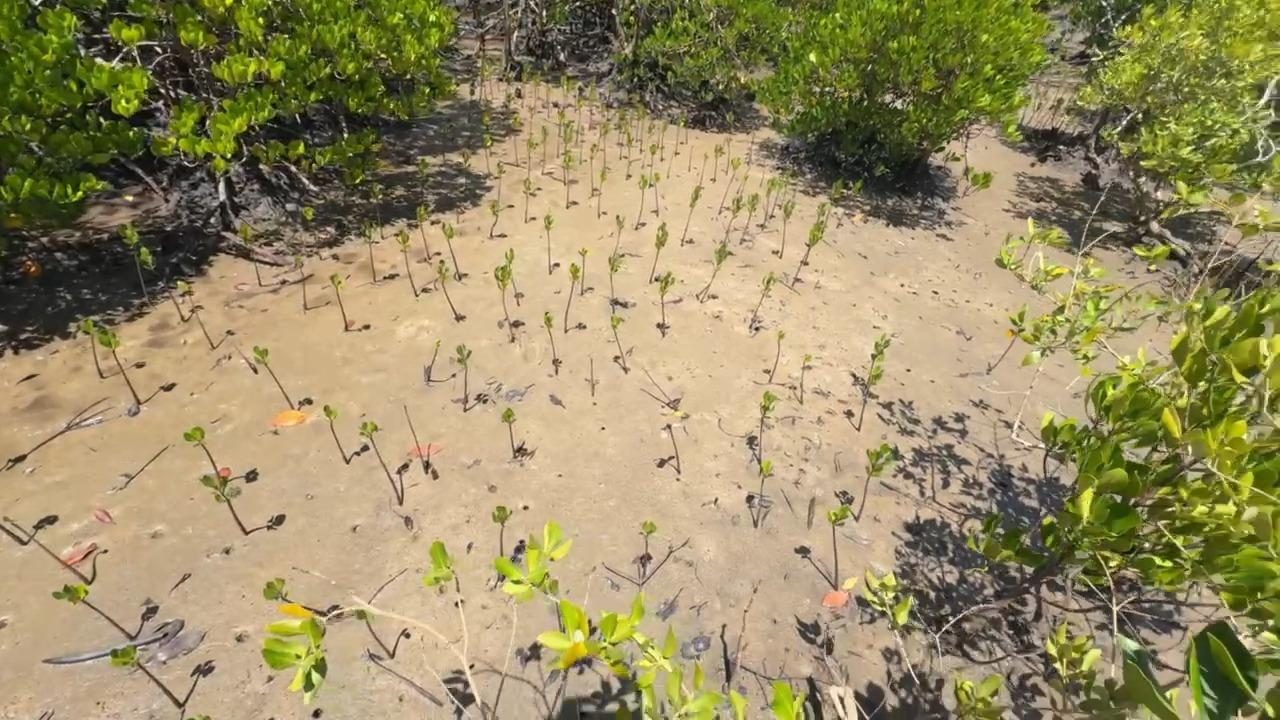Tree: (3, 516, 92, 585), (52, 583, 136, 642), (108, 644, 184, 709), (727, 580, 764, 693), (357, 421, 403, 505), (855, 443, 897, 522), (140, 246, 186, 318), (98, 328, 141, 405), (116, 222, 153, 308), (198, 474, 249, 536), (263, 578, 329, 620), (253, 346, 295, 410), (176, 279, 214, 348), (790, 221, 825, 288), (828, 504, 854, 592), (183, 426, 221, 480), (700, 244, 733, 304), (759, 390, 782, 474), (856, 366, 885, 432), (863, 332, 892, 397), (356, 609, 392, 659), (749, 271, 777, 334), (493, 264, 515, 343), (404, 404, 428, 475), (492, 505, 513, 582), (395, 230, 419, 297), (237, 223, 262, 287), (753, 459, 775, 529), (80, 318, 105, 379), (323, 404, 349, 462), (643, 368, 678, 411), (680, 185, 704, 247), (437, 259, 460, 323), (836, 179, 864, 229), (718, 157, 741, 215), (649, 222, 669, 284), (441, 222, 461, 281), (329, 272, 349, 331), (564, 262, 580, 334), (610, 314, 629, 374), (638, 520, 657, 579), (456, 343, 472, 413), (360, 217, 377, 282), (660, 423, 682, 473), (302, 206, 322, 260), (561, 119, 577, 186), (824, 176, 844, 229), (739, 192, 759, 245), (660, 271, 676, 337), (723, 196, 744, 246), (962, 170, 998, 199), (543, 312, 559, 375), (986, 338, 1013, 375), (779, 199, 795, 260), (768, 330, 786, 384), (561, 149, 577, 209), (505, 247, 521, 306), (416, 203, 432, 261), (369, 182, 385, 239), (761, 177, 777, 232), (608, 253, 622, 314), (501, 408, 517, 458), (634, 174, 648, 231), (294, 255, 308, 311), (597, 166, 611, 220), (800, 353, 813, 406), (587, 143, 600, 196), (0, 524, 28, 548), (778, 168, 794, 210), (769, 176, 784, 220), (600, 121, 613, 168), (587, 76, 598, 131), (428, 339, 442, 382), (417, 158, 430, 204), (510, 113, 521, 167), (442, 121, 456, 162), (481, 130, 493, 177), (521, 59, 532, 109), (543, 213, 552, 274), (604, 80, 617, 122), (556, 111, 567, 160), (481, 111, 492, 157), (543, 62, 552, 118), (675, 115, 687, 157), (614, 214, 626, 255), (526, 137, 538, 178), (578, 247, 588, 296), (619, 117, 630, 160), (541, 125, 550, 176), (489, 200, 501, 238), (461, 148, 472, 189), (625, 132, 634, 181), (942, 149, 965, 168), (522, 177, 531, 224), (648, 144, 657, 189), (639, 105, 647, 155), (497, 160, 506, 204), (736, 167, 750, 195), (712, 144, 722, 183), (574, 95, 585, 130), (635, 102, 644, 143), (559, 74, 569, 110), (467, 82, 475, 124), (478, 58, 485, 104), (533, 71, 542, 106), (653, 173, 660, 217), (699, 152, 708, 186), (504, 71, 513, 104), (483, 56, 489, 105), (661, 120, 668, 162), (748, 132, 756, 165), (816, 202, 827, 224), (726, 137, 732, 176), (739, 176, 748, 202), (618, 106, 626, 135), (695, 284, 709, 299), (489, 57, 494, 98), (580, 125, 585, 165), (590, 358, 595, 396), (185, 713, 212, 720), (667, 152, 674, 179), (495, 55, 500, 92), (529, 106, 534, 137), (688, 145, 693, 173), (685, 124, 690, 144), (657, 129, 661, 149), (641, 153, 646, 169)
